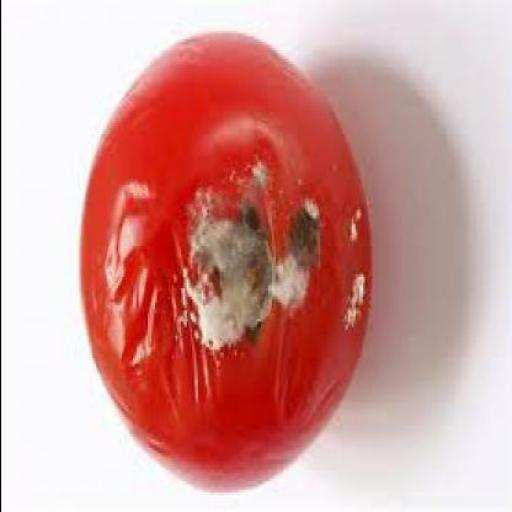biodegradable: (78, 31, 368, 490)
